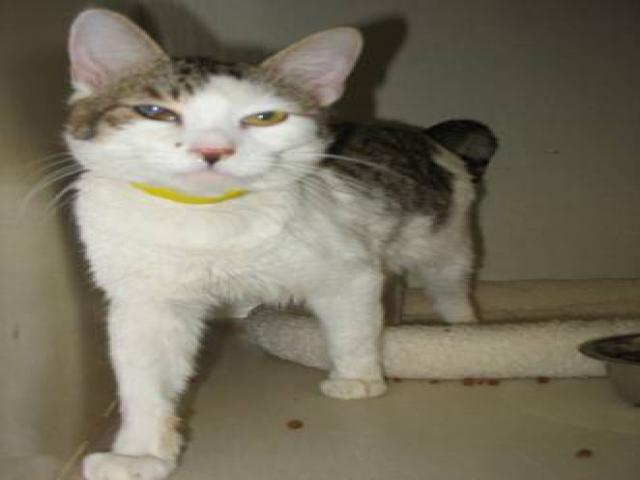cat: (40, 6, 498, 475)
